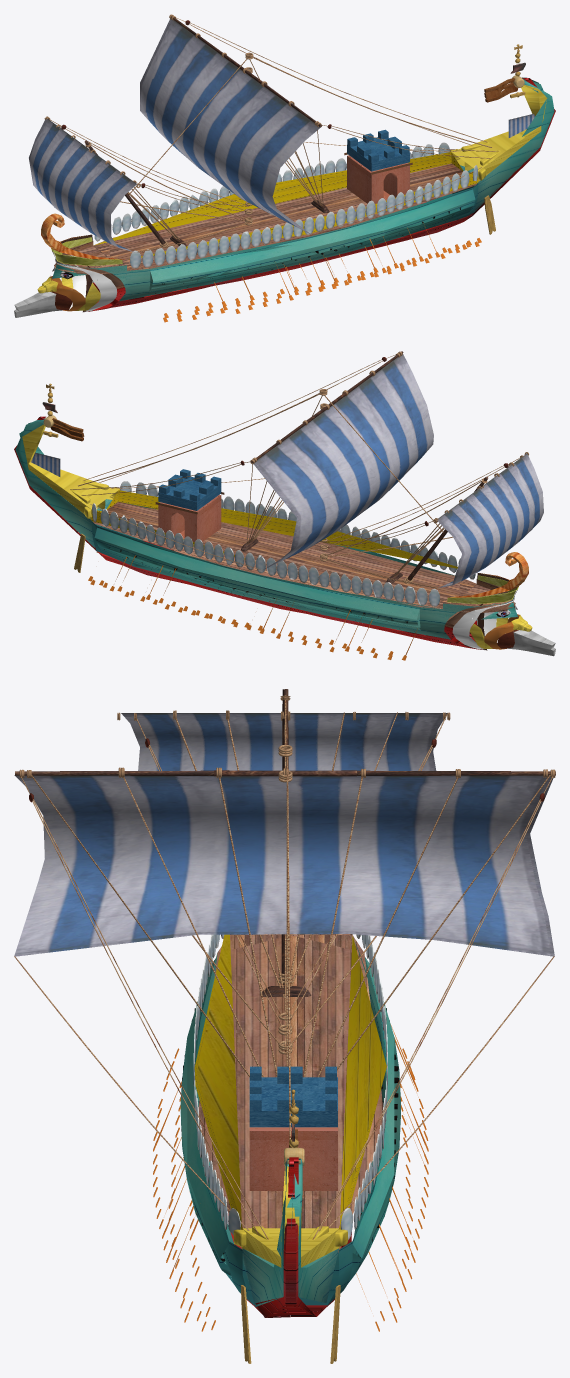
The model's file is trirreme.glb.
3 views of the same model, one above another, from view 1: azimuth 30°, elevation 25°; view 2: azimuth 150°, elevation 25°; view 3: azimuth 270°, elevation 25° (orthographic). The views are drawn at different scales.
Visible parts, largest first — view 1: Object_24, Object_30, Object_29, Object_39, Object_2, Object_8, Object_33, Object_3, Object_16, Object_26, Object_36, Object_19 (+7 smaller); view 2: Object_24, Object_30, Object_29, Object_39, Object_2, Object_33, Object_8, Object_3, Object_16, Object_36, Object_26, Object_19 (+7 smaller); view 3: Object_24, Object_29, Object_30, Object_2, Object_8, Object_36, Object_16, Object_39, Object_19, Object_26, Object_33, Object_3 (+1 smaller).
Boxes of the visible parts, <box> form: Object_24: <box>29,18,534,252</box>; Object_30: <box>52,77,554,301</box>; Object_29: <box>54,163,476,288</box>; Object_39: <box>94,142,477,268</box>; Object_2: <box>44,14,499,252</box>; Object_8: <box>94,152,478,259</box>; Object_33: <box>37,84,547,310</box>; Object_3: <box>88,77,555,311</box>; Object_16: <box>347,155,409,203</box>; Object_26: <box>163,223,481,322</box>; Object_36: <box>347,129,409,171</box>; Object_19: <box>84,16,329,246</box>; Object_24: <box>31,353,543,588</box>; Object_30: <box>15,419,517,639</box>; Object_29: <box>93,501,515,635</box>; Object_39: <box>92,481,475,606</box>; Object_2: <box>70,351,528,588</box>; Object_33: <box>22,424,532,648</box>; Object_8: <box>91,490,457,568</box>; Object_3: <box>14,416,481,649</box>; Object_16: <box>158,494,221,542</box>; Object_36: <box>158,469,221,510</box>; Object_26: <box>88,555,417,660</box>; Object_19: <box>241,351,488,583</box>; Object_24: <box>14,713,554,956</box>; Object_29: <box>198,934,385,1252</box>; Object_30: <box>180,939,400,1306</box>; Object_2: <box>14,695,555,1239</box>; Object_8: <box>194,934,386,1248</box>; Object_36: <box>249,1066,337,1127</box>; Object_16: <box>249,1127,337,1190</box>; Object_39: <box>193,934,387,1240</box>; Object_19: <box>15,689,555,996</box>; Object_26: <box>153,1024,428,1331</box>; Object_33: <box>233,1166,347,1267</box>; Object_3: <box>228,1157,351,1317</box>.
Bounding box in the file's own units: 16.34 × 6.62 × 7.9.
Materials: 29 (28 with a texture image).
